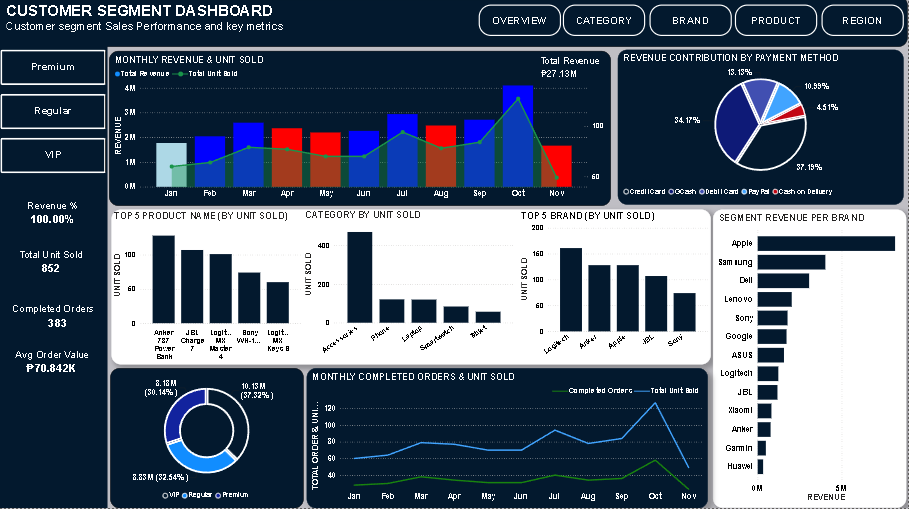

Layout of this report page (visuals, bound fields, positions):
{"tool":"powerbi","page":{"name":"CUSTOMER","canvas":[1920,1080],"ordinal":5},"visuals":[{"type":"group","id":"g1","title":"Group 1","box":[0,0,1920,107.8],"z":0},{"type":"shape","box":[0,0,1920,107],"z":0,"group":"g1"},{"type":"actionButton","box":[1374.2,19.1,174.1,66.8],"z":1000,"group":"g1"},{"type":"shape","box":[0,97.1,231.4,982.9],"z":1000},{"type":"actionButton","box":[1555.5,19.1,174.1,66.8],"z":2000,"group":"g1"},{"type":"advancedSlicerVisual","fields":{"Values":["public customer.customer_segment"]},"box":[0,107.8,233.2,311.9],"z":2000},{"type":"actionButton","box":[1736.9,19.1,174.1,66.8],"z":3000,"group":"g1"},{"type":"cardVisual","fields":{"Data":["public order_items.Total Quantity"]},"box":[3.8,510.2,218.6,102],"z":3000},{"type":"actionButton","box":[1192.9,19.1,174.1,66.8],"z":4000,"group":"g1"},{"type":"cardVisual","fields":{"Data":["public order_receipts.Avg Order Value"]},"box":[4.9,727.2,218.1,92.9],"z":4000},{"type":"textbox","box":[11.7,8.7,644.1,99.1],"z":5000,"group":"g1"},{"type":"cardVisual","fields":{"Data":["public order_receipts.Total Order Receipt"]},"box":[0.9,625.2,252.9,102.6],"z":5000},{"type":"actionButton","box":[1014,19.1,174.1,66.8],"z":6000,"group":"g1"},{"type":"group","id":"g2","title":"Group 2","box":[233.7,105,1073.6,336.4],"z":6000},{"type":"pieChart","title":"REVENUE CONTRIBUTION BY PAYMENT METHOD","fields":{"Category":["public order_receipts.payment_method"],"Series":["public order_receipts.payment_method"],"Y":["public order_items.Total Revenue"]},"box":[1307.4,114.5,603.6,326.9],"z":7000},{"type":"lineClusteredColumnComboChart","title":"MONTHLY REVENUE & UNIT SOLD","fields":{"Category":["public order_receipts.Month Name"],"Y":["public order_items.Total Revenue"],"Y2":["public order_items.Total Unit Sold"]},"box":[233.7,114.5,1059.3,326.8],"z":8000,"group":"g2"},{"type":"shape","box":[238.6,450.9,1264.5,326.9],"z":8000},{"type":"donutChart","fields":{"Category":["public customer.customer_segment"],"Y":["public order_items.Total Revenue"]},"box":[238.1,784.1,408,295.8],"z":9000},{"type":"clusteredBarChart","title":"SEGMENT REVENUE PER BRAND","fields":{"Category":["public product.brand"],"Y":["public order_items.Total Revenue"]},"box":[1507.8,450.2,408,629.8],"z":10000},{"type":"lineChart","title":"MONTHLY COMPLETED ORDERS & UNIT SOLD","fields":{"Category":["public order_receipts.Month Name"],"Y":["public order_receipts.Total Order Receipt","public order_items.Total Unit Sold"]},"box":[651.3,784.2,846.9,295.8],"z":11000},{"type":"cardVisual","fields":{"Data":["public customer.Revenue Contribution %"]},"box":[0,408,231.4,102.6],"z":12000},{"type":"clusteredColumnChart","title":"TOP 5 PRODUCT NAME (BY UNIT SOLD)","fields":{"Category":["public product.product_name"],"Y":["public order_items.Total Unit Sold"]},"box":[239,452.5,405.1,325.4],"z":13000},{"type":"clusteredColumnChart","title":"CATEGORY BY UNIT SOLD","fields":{"Category":["public product.category"],"Y":["public order_items.Total Unit Sold"]},"box":[644.1,450.8,450.8,322],"z":14000},{"type":"clusteredColumnChart","title":"TOP 5 BRAND (BY UNIT SOLD)","fields":{"Category":["public product.brand"],"Y":["public order_items.Total Unit Sold"]},"box":[1100,454.2,403.4,323.7],"z":15000},{"type":"cardVisual","fields":{"Data":["public order_items.Total Revenue"]},"box":[1117.9,105,189.5,92.6],"z":15001,"group":"g2"}]}

Visuals, with their boxes in screenshot pixels (x1, y1, x2, y2), scaled from the page's 1920x1080 canvas onto the 909x509 screenshot:
"Group 1" group: [0, 0, 908, 51]
shape: [0, 0, 908, 50]
actionButton: [651, 9, 733, 40]
shape: [0, 46, 110, 508]
actionButton: [736, 9, 819, 40]
advancedSlicerVisual - public customer.customer_segment: [0, 51, 110, 198]
actionButton: [822, 9, 905, 40]
cardVisual - public order_items.Total Quantity: [2, 240, 105, 289]
actionButton: [565, 9, 647, 40]
cardVisual - public order_receipts.Avg Order Value: [2, 343, 106, 387]
textbox: [6, 4, 310, 51]
cardVisual - public order_receipts.Total Order Receipt: [0, 295, 120, 343]
actionButton: [480, 9, 562, 40]
"Group 2" group: [111, 49, 619, 208]
"REVENUE CONTRIBUTION BY PAYMENT METHOD" pieChart: [619, 54, 905, 208]
"MONTHLY REVENUE & UNIT SOLD" lineClusteredColumnComboChart: [111, 54, 612, 208]
shape: [113, 213, 712, 367]
donutChart - public customer.customer_segment x public order_items.Total Revenue: [113, 370, 306, 508]
"SEGMENT REVENUE PER BRAND" clusteredBarChart: [714, 212, 907, 508]
"MONTHLY COMPLETED ORDERS & UNIT SOLD" lineChart: [308, 370, 709, 508]
cardVisual - public customer.Revenue Contribution %: [0, 192, 110, 241]
"TOP 5 PRODUCT NAME (BY UNIT SOLD)" clusteredColumnChart: [113, 213, 305, 367]
"CATEGORY BY UNIT SOLD" clusteredColumnChart: [305, 212, 518, 364]
"TOP 5 BRAND (BY UNIT SOLD)" clusteredColumnChart: [521, 214, 712, 367]
cardVisual - public order_items.Total Revenue: [529, 49, 619, 93]
